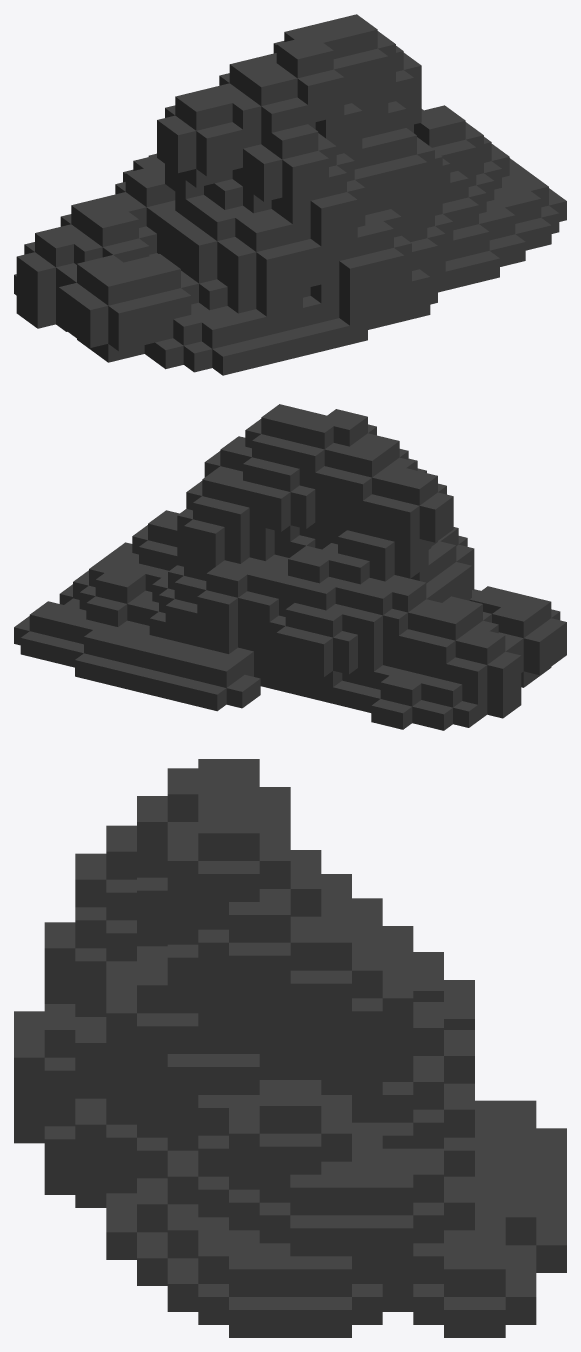
Rendered from stone_norm_02.obj.
3 views of the same model, one above another, from view 1: azimuth 30°, elevation 25°; view 2: azimuth 150°, elevation 25°; view 3: azimuth 270°, elevation 25° (orthographic). The views are drawn at different scales.
Bounding box in the file's own units: 2.8 × 1.3 × 1.8.
Materials: 1 (1 with a texture image).
